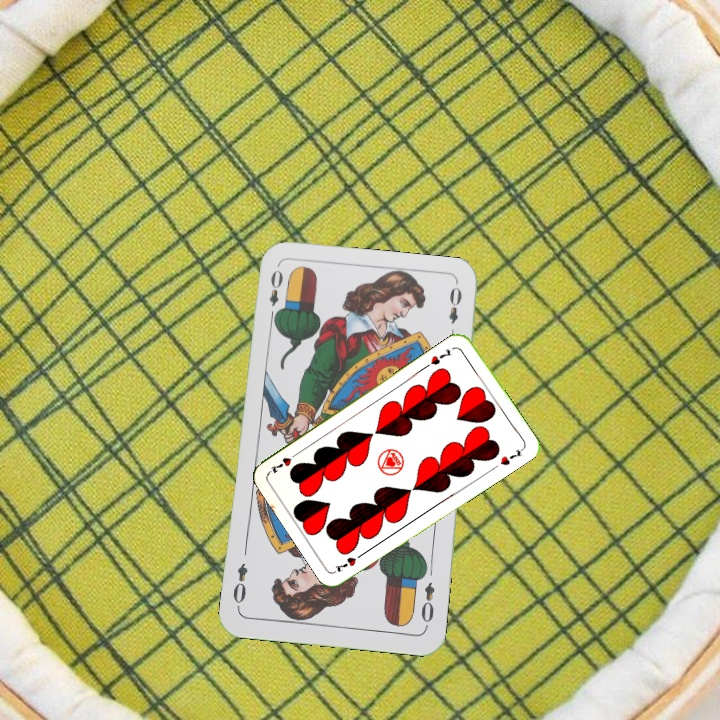EO: (265, 265, 285, 323), (417, 578, 438, 630)
H7: (331, 548, 367, 575), (426, 345, 454, 367)
